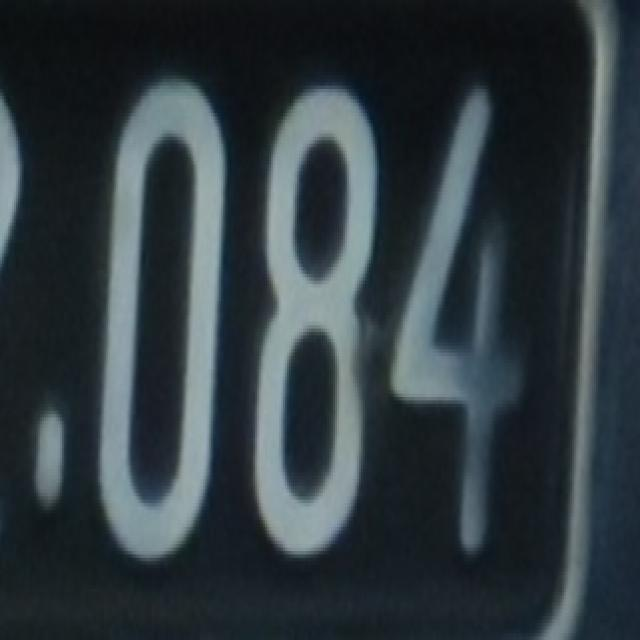licenseplate: (5, 19, 636, 640)
